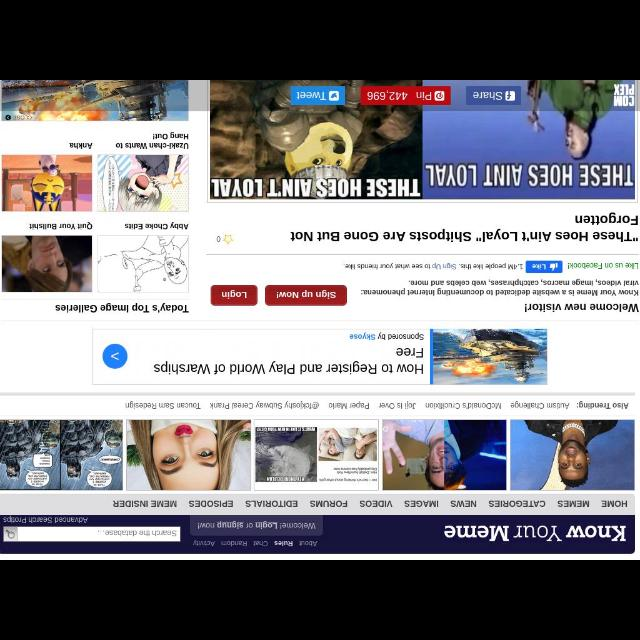button: (3, 528, 17, 542)
icon: (222, 233, 234, 244), (548, 262, 560, 272), (435, 90, 445, 102), (6, 530, 14, 540), (506, 90, 514, 100), (330, 92, 338, 100)
iframe: (93, 330, 547, 386)
image: (210, 82, 634, 198), (2, 81, 188, 121), (98, 154, 188, 212), (1, 236, 91, 292), (99, 236, 188, 292), (2, 156, 92, 210), (614, 84, 634, 106)
input: (17, 526, 180, 542)
multitab: (1, 493, 634, 515), (1, 394, 633, 416)
text: (290, 212, 638, 244), (360, 278, 638, 298), (443, 522, 625, 544), (55, 300, 188, 314), (343, 262, 523, 270), (115, 132, 189, 150), (210, 399, 320, 411), (523, 303, 639, 313), (196, 521, 318, 529), (426, 400, 502, 410), (124, 400, 200, 410), (566, 260, 638, 270), (2, 516, 88, 524), (123, 221, 189, 231), (94, 530, 176, 538), (28, 222, 92, 232), (510, 400, 570, 410), (276, 289, 336, 299), (489, 499, 546, 509), (112, 500, 178, 508), (576, 399, 628, 409), (376, 399, 416, 411), (366, 90, 406, 102), (245, 500, 298, 508), (329, 400, 369, 410), (188, 499, 235, 507), (600, 498, 630, 509), (403, 499, 439, 508), (308, 500, 348, 508), (556, 499, 590, 508), (296, 90, 326, 100), (473, 90, 502, 100), (220, 290, 248, 300), (222, 538, 248, 548), (360, 499, 392, 507), (450, 499, 478, 508), (416, 90, 432, 102), (70, 141, 92, 149), (193, 541, 214, 549), (532, 262, 546, 272), (274, 540, 294, 546), (300, 541, 318, 547), (252, 542, 268, 546), (216, 235, 222, 242)
textbutton: (362, 86, 451, 104), (265, 286, 345, 306), (291, 85, 345, 105), (212, 284, 256, 306), (468, 86, 520, 104), (526, 260, 562, 272)
toolbar: (1, 516, 634, 552)
